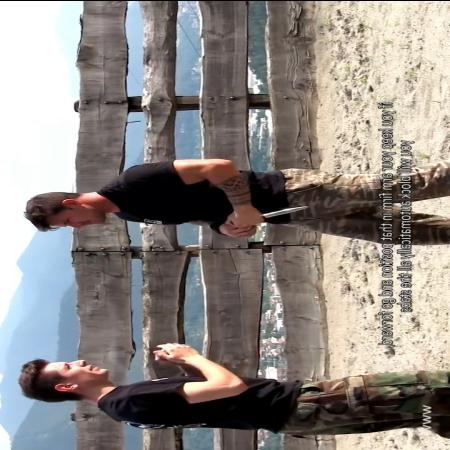long weapon: (230, 200, 312, 226)
